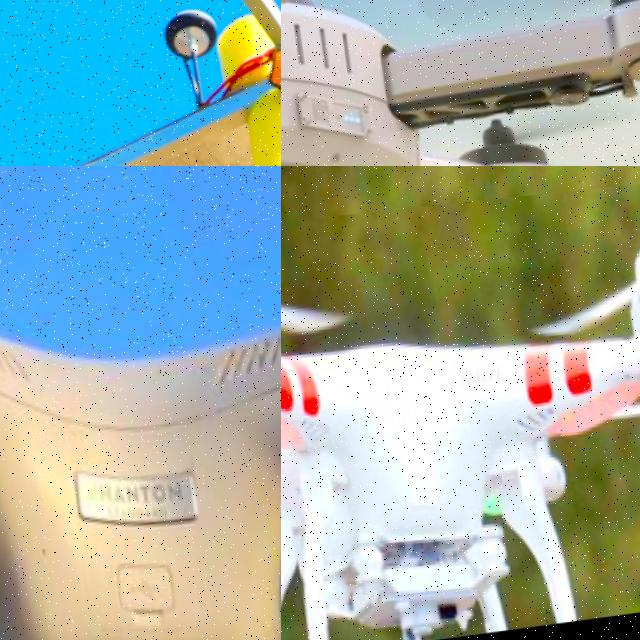0: (281, 180, 640, 640)
drone: (0, 166, 281, 640), (281, 0, 640, 166), (0, 0, 281, 166)
